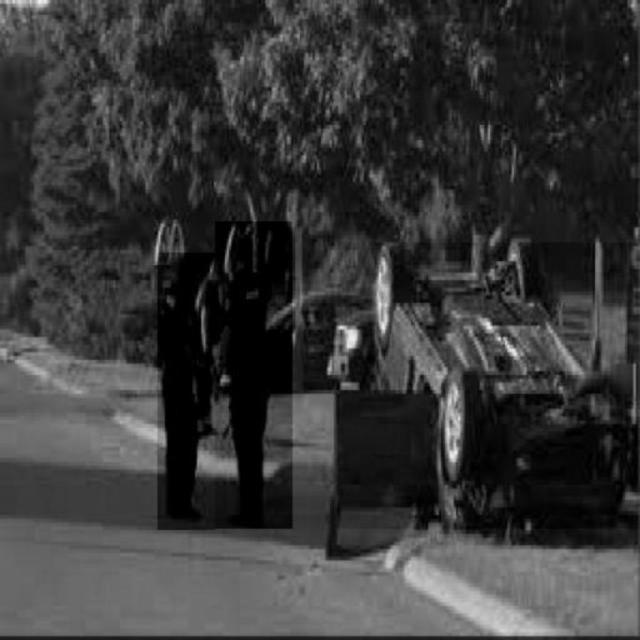accident: (338, 243, 639, 529)
person: (215, 222, 293, 529), (158, 252, 215, 530)
